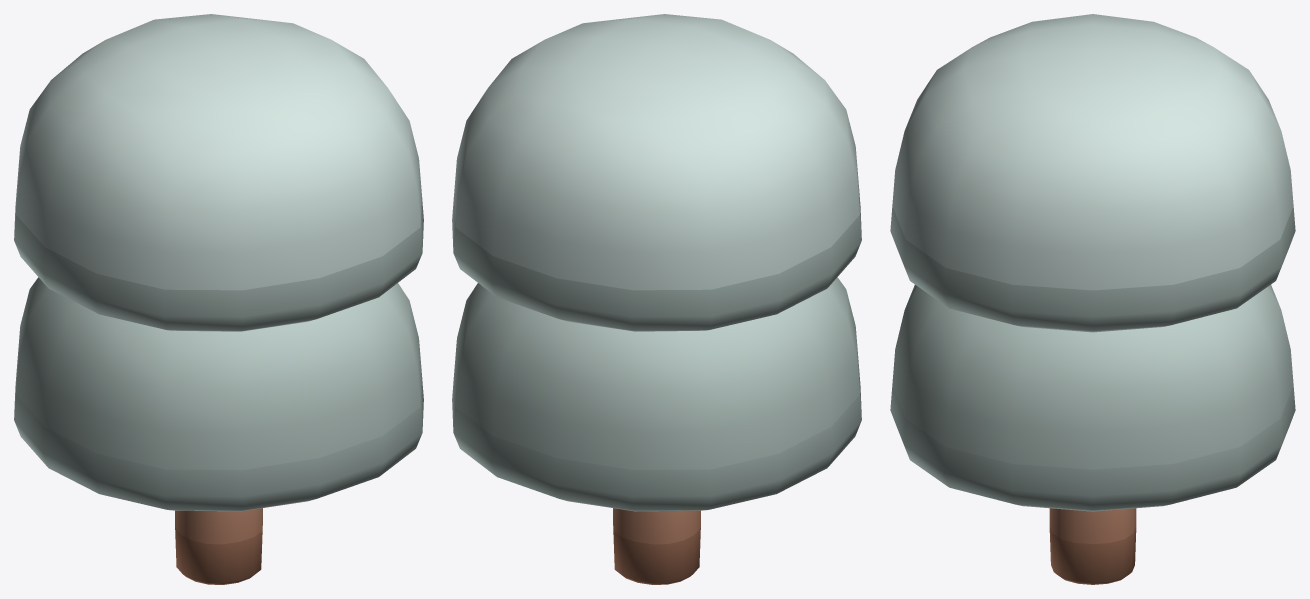
File: tree_12.fbx
The picture shows the model from 3 angles, left to right: view 1: azimuth 30°, elevation 25°; view 2: azimuth 150°, elevation 25°; view 3: azimuth 270°, elevation 25°; orthographic projection.
Visible parts, largest first — view 1: tree_12; view 2: tree_12; view 3: tree_12.
Part boxes in pixels (x1,y1,x2,y2): tree_12: (14, 14, 423, 584); tree_12: (452, 14, 861, 584); tree_12: (890, 14, 1295, 584).
Bounding box in the file's own units: 179 × 255 × 179.
